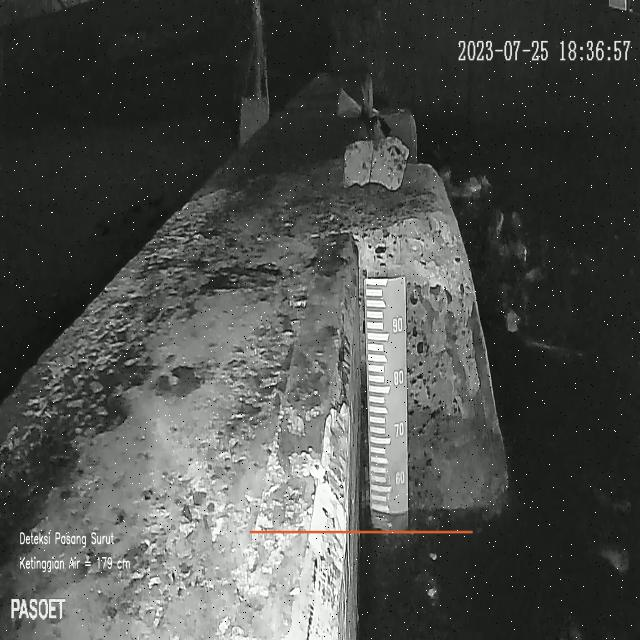60: (395, 468, 406, 487)
70: (393, 420, 405, 438)
80: (393, 369, 404, 387)
90: (392, 316, 403, 335)
staff: (364, 276, 406, 513)
